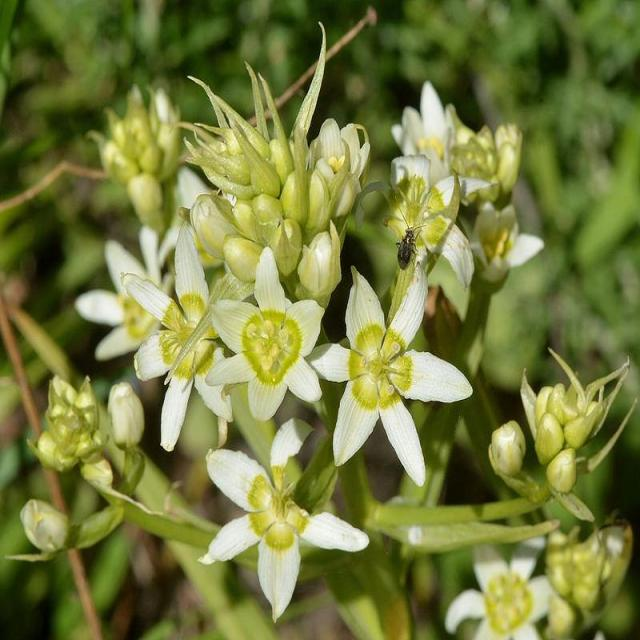Miridae-Adult-: (388, 205, 432, 276)
